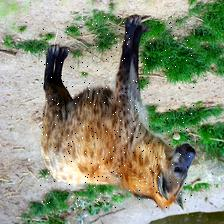hyena: (40, 15, 194, 210)
